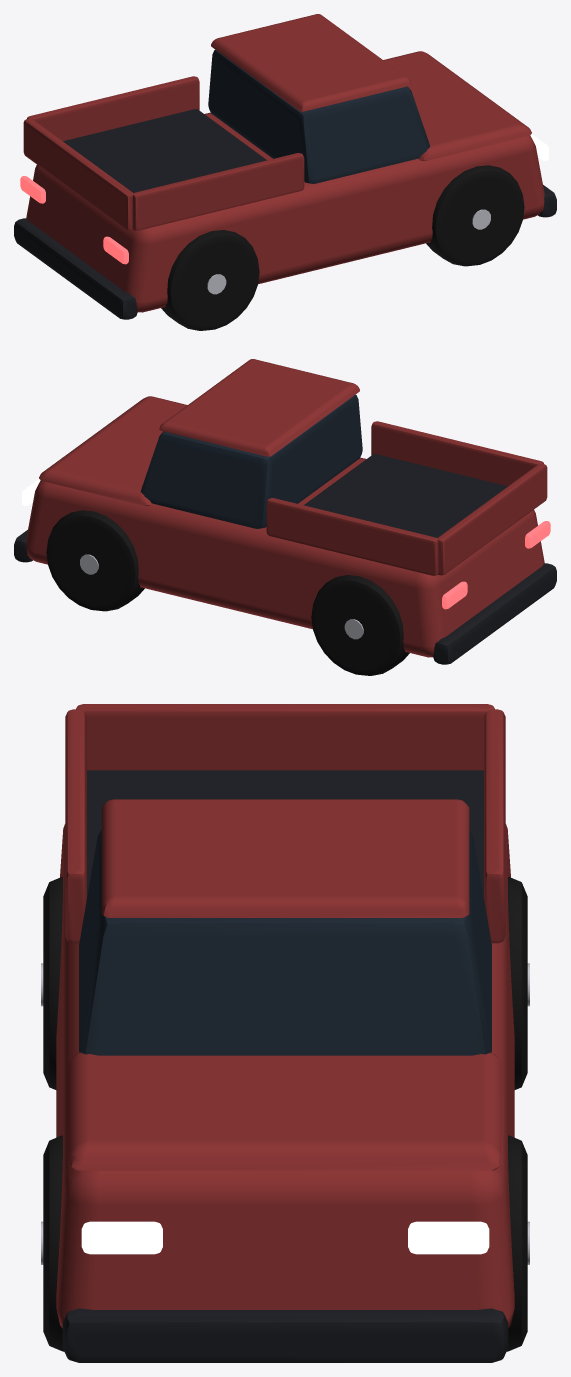
File: pickup.glb
3 views of the same model, one above another, from view 1: azimuth 30°, elevation 25°; view 2: azimuth 150°, elevation 25°; view 3: azimuth 270°, elevation 25° (orthographic). The views are drawn at different scales.
Parts seen in each view (by area): view 1: part-paint, part-glass, part-trim, wheel-+12--1-tyre, wheel--11--1-tyre, part-taillight; view 2: part-paint, part-glass, part-trim, wheel-+12-1-tyre, wheel--11-1-tyre, part-taillight; view 3: part-paint, part-glass, part-trim, wheel-+12-1-tyre, wheel-+12--1-tyre, wheel--11-1-tyre, wheel--11--1-tyre, headlight-1, headlight--1.
Part boxes in pixels (bbox=[...]): part-paint: bbox=[23, 14, 544, 312]; part-glass: bbox=[208, 49, 430, 183]; part-trim: bbox=[14, 109, 556, 319]; wheel-+12--1-tyre: bbox=[426, 165, 524, 266]; wheel--11--1-tyre: bbox=[161, 230, 259, 330]; part-taillight: bbox=[20, 176, 128, 264]; part-paint: bbox=[26, 359, 547, 657]; part-glass: bbox=[140, 394, 362, 528]; part-trim: bbox=[14, 454, 556, 664]; wheel-+12-1-tyre: bbox=[46, 510, 144, 611]; wheel--11-1-tyre: bbox=[311, 575, 409, 675]; part-taillight: bbox=[442, 521, 550, 609]; part-paint: bbox=[56, 704, 514, 1328]; part-glass: bbox=[79, 830, 491, 1055]; part-trim: bbox=[62, 770, 508, 1362]; wheel-+12-1-tyre: bbox=[506, 1135, 527, 1351]; wheel-+12--1-tyre: bbox=[43, 1135, 64, 1351]; wheel--11-1-tyre: bbox=[508, 877, 527, 1089]; wheel--11--1-tyre: bbox=[43, 877, 62, 1089]; headlight-1: bbox=[408, 1221, 489, 1254]; headlight--1: bbox=[81, 1221, 162, 1254].
Bounding box in the file's own units: 37.2 × 15.7 × 17.98.
